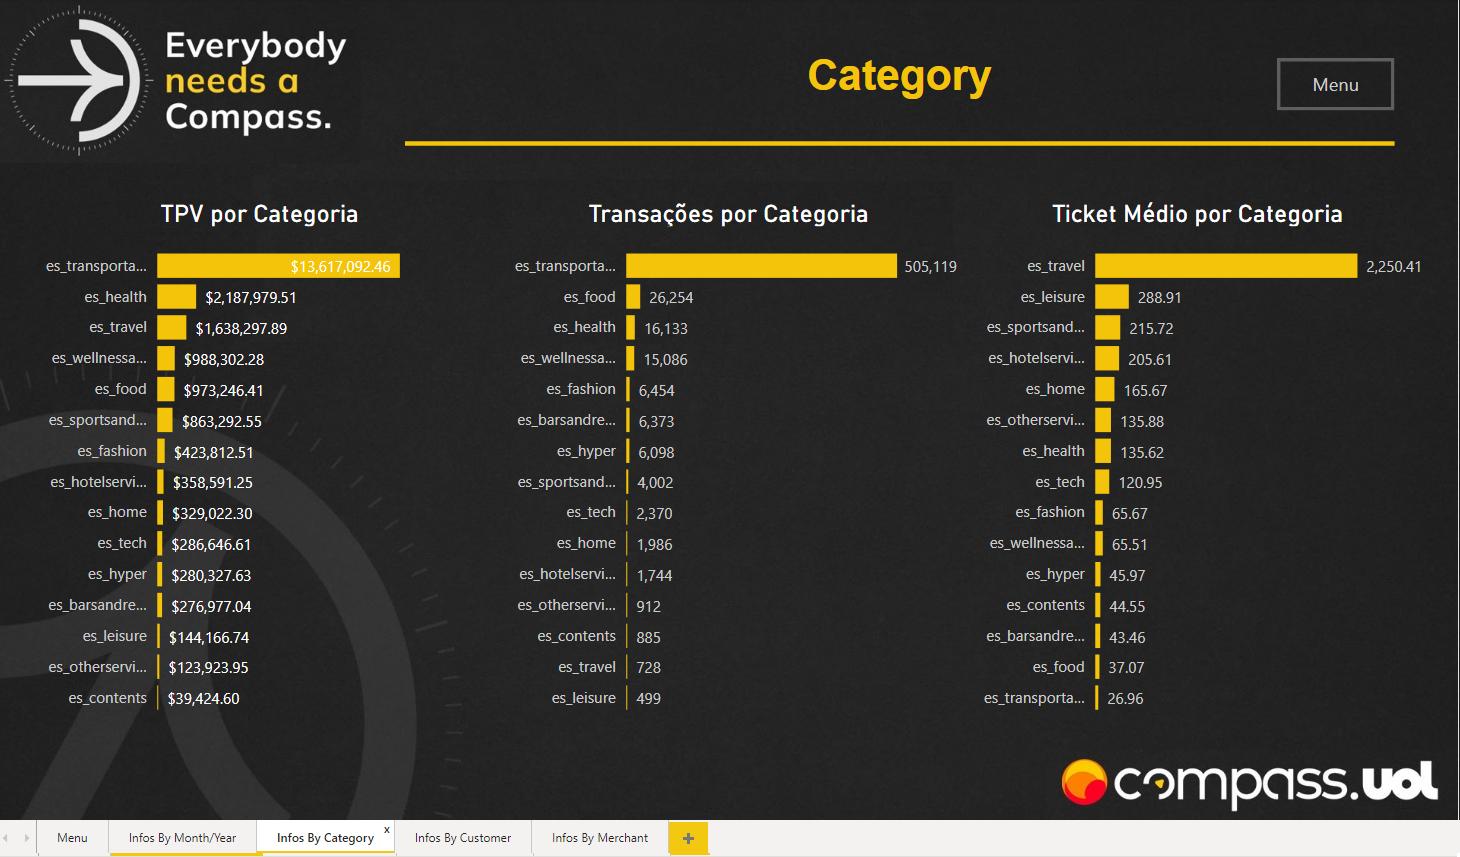

The page's visual inventory and layout, read from the dashboard file:
{"tool":"powerbi","page":{"name":"Infos By Category","canvas":[1280,720],"ordinal":2},"visuals":[{"type":"clusteredBarChart","title":"Ticket Médio por Categoria","fields":{"Category":["public dim_merchant_category.category"],"Y":["public fact_merchant_kpi.Ticket Médio M"]},"box":[845.7,175.5,411.4,464.5],"z":0},{"type":"shape","box":[356.4,51.9,867.5,150],"z":1000},{"type":"textbox","box":[356.4,41.6,867.5,70.6],"z":2000},{"type":"clusteredBarChart","title":"Transações por Categoria","fields":{"Category":["public dim_merchant_category.category"],"Y":["Sum(public fact_merchant_kpi.qtd_transacoes)"]},"box":[434.3,175.5,411.4,464.5],"z":3000},{"type":"clusteredBarChart","title":"TPV por Categoria","fields":{"Category":["public dim_merchant_category.category"],"Y":["Sum(public fact_merchant_kpi.tpv)"]},"box":[22.9,175.5,411.4,464.5],"z":4000},{"type":"actionButton","title":"Menu","box":[1120.9,52.1,103.3,45.7],"z":5000}]}

Visuals, with their boxes on the page's 1280x720 design canvas (x1, y1, x2, y2). These are canvas units, not pixel positions in the 1460x857 screenshot, which may show the page scaled, cropped or inside an application window:
"Ticket Médio por Categoria" clusteredBarChart: <region>846, 176, 1257, 640</region>
shape: <region>356, 52, 1224, 202</region>
textbox: <region>356, 42, 1224, 112</region>
"Transações por Categoria" clusteredBarChart: <region>434, 176, 846, 640</region>
"TPV por Categoria" clusteredBarChart: <region>23, 176, 434, 640</region>
"Menu" actionButton: <region>1121, 52, 1224, 98</region>
